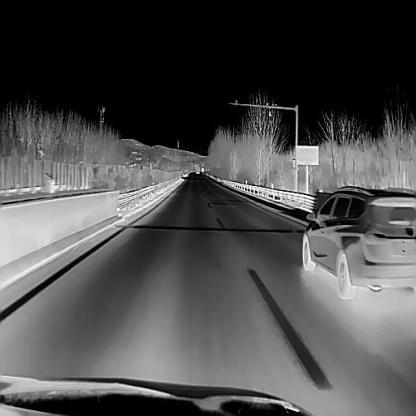car: (302, 184, 416, 299), (194, 165, 199, 173)
